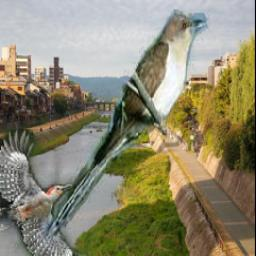Cuckoo: (42, 9, 210, 244)
Woodpecker: (0, 130, 92, 256)
